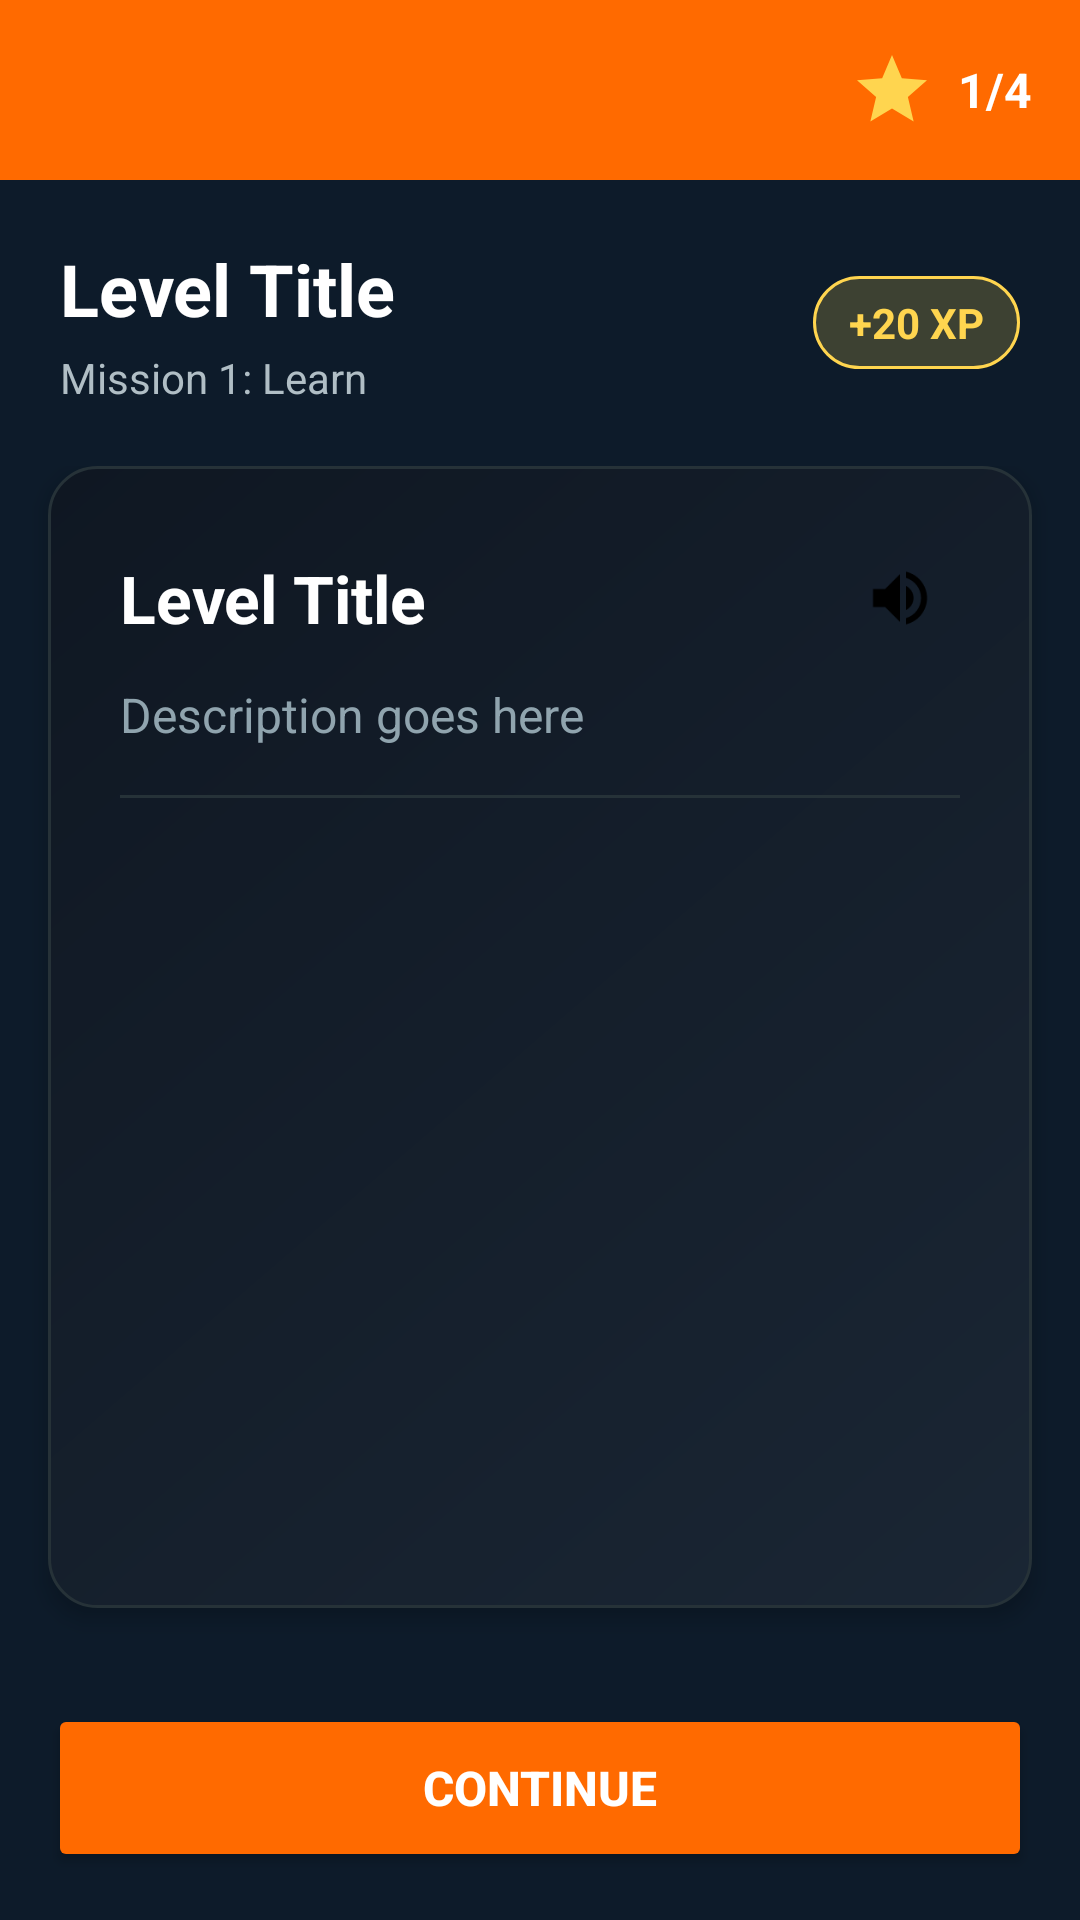

Where to tap for icons on this 1080×1920 app screen, as (x=x, y=y):
star: (x=892, y=88)
volume: (x=900, y=598)
